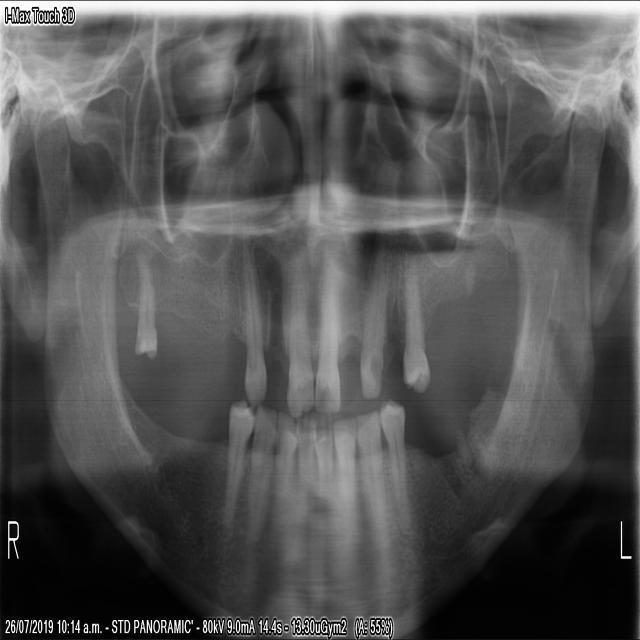LCD: (351, 400, 389, 555)
LCU: (356, 234, 390, 405)
LID: (330, 407, 358, 523), (310, 409, 336, 516)
LIU: (311, 253, 342, 416)
LPMD: (375, 391, 412, 530)
LPMU: (397, 244, 431, 397)
RCD: (243, 398, 279, 549)
RCU: (236, 239, 269, 409)
RID: (270, 404, 301, 536), (293, 409, 316, 528)
RIU: (281, 251, 315, 423)
RMU: (130, 244, 158, 363)
RPMD: (219, 392, 256, 539)
